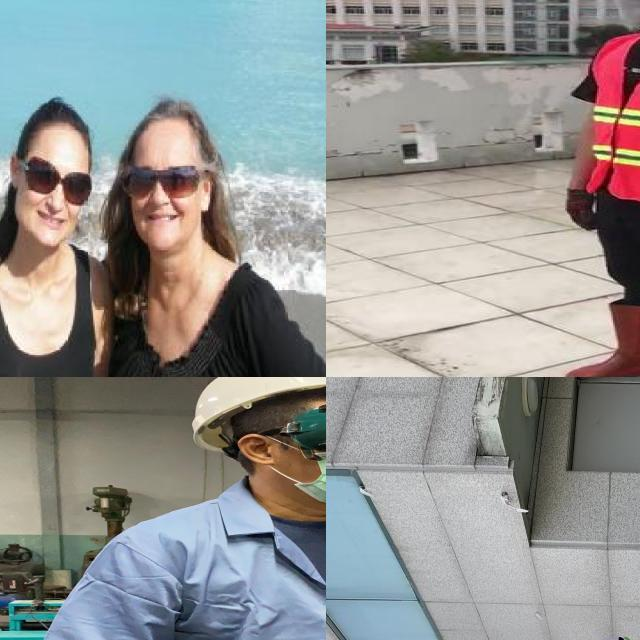No_Ear-Protection: (239, 434, 308, 483)
boots: (565, 306, 640, 377)
face_mask: (602, 0, 640, 27)
face_nomask: (120, 166, 206, 234), (21, 157, 90, 236)
glasses: (17, 151, 95, 207), (120, 160, 203, 203), (279, 404, 326, 458)
hand_glove: (565, 187, 599, 234)
head_helmet: (192, 377, 326, 450)
head_nohelmet: (123, 96, 211, 142), (17, 96, 95, 140)
person: (95, 87, 326, 377), (539, 0, 640, 377), (0, 83, 108, 377)
vest: (586, 30, 640, 207)
